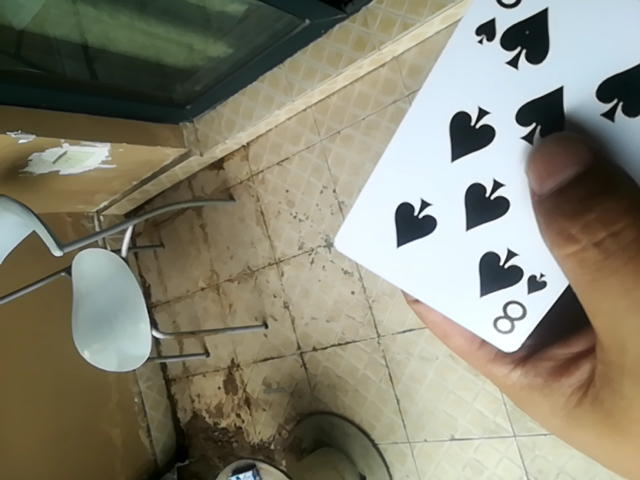ht 8: (330, 3, 633, 359)
